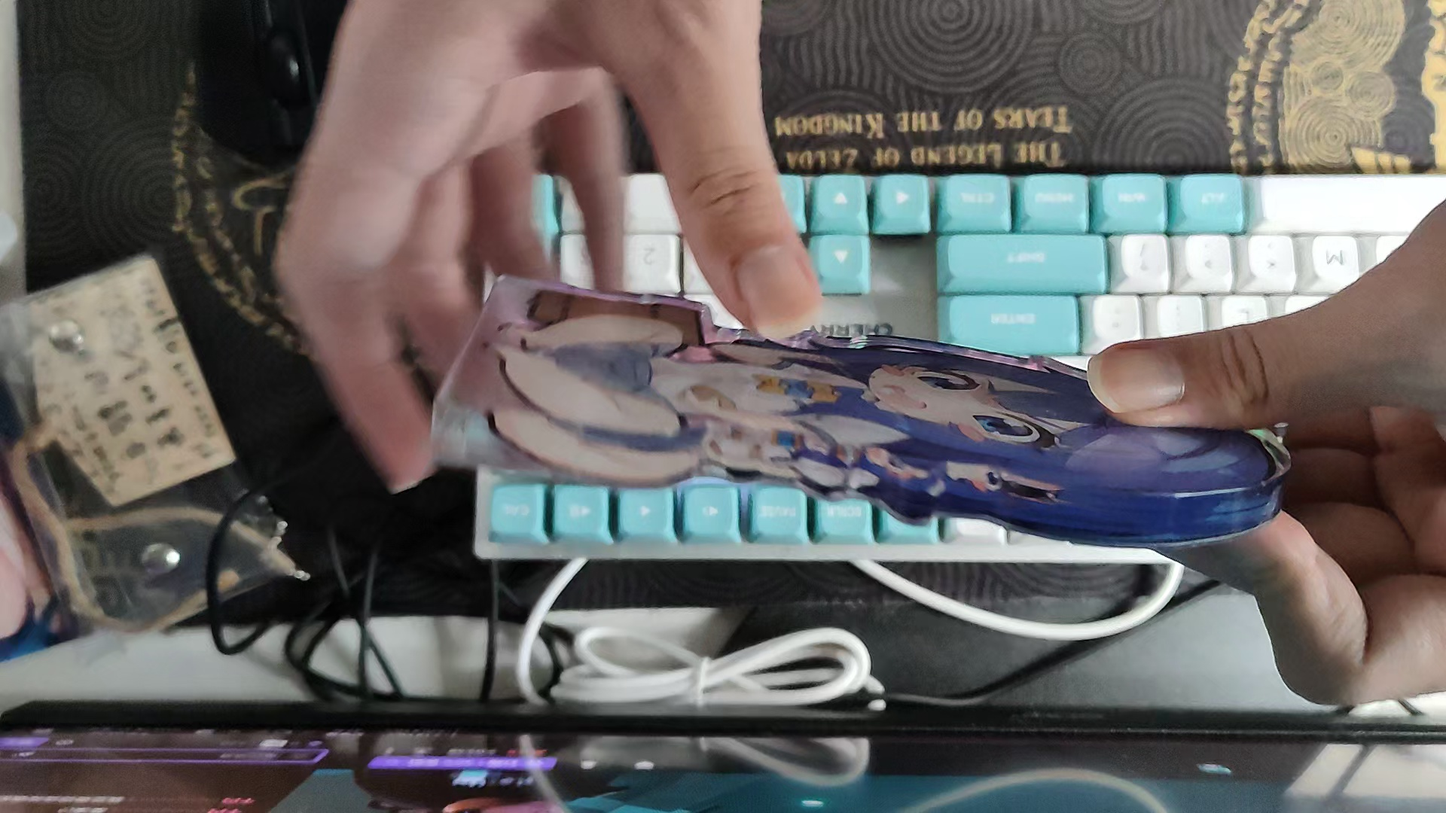Yanami-anna: (427, 269, 1293, 550)
